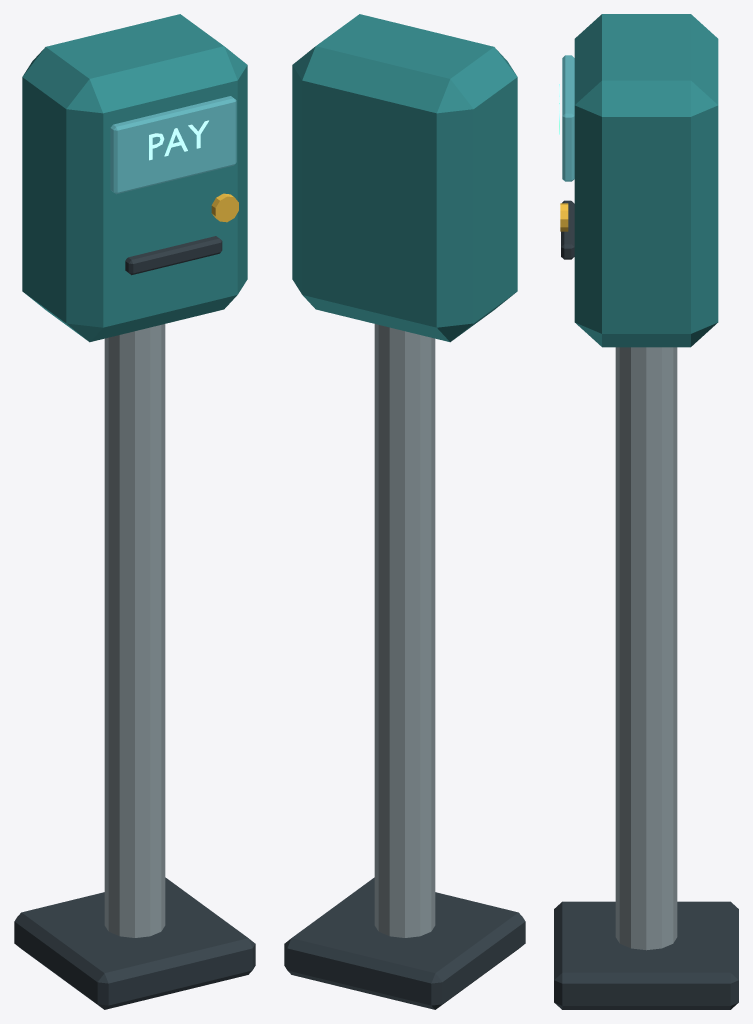
Rendered from Parking_Meter.glb.
The picture shows the model from 3 angles, left to right: view 1: azimuth 30°, elevation 25°; view 2: azimuth 150°, elevation 25°; view 3: azimuth 270°, elevation 25°; orthographic projection.
Visible parts, largest first — view 1: Parking_Meter; view 2: Parking_Meter; view 3: Parking_Meter.
Boxes of the visible parts, left/top/right/bottom form: Parking_Meter: left=14, top=14, right=255, bottom=1009; Parking_Meter: left=284, top=14, right=525, bottom=1009; Parking_Meter: left=554, top=14, right=738, bottom=1009.
Size of the model in its own units: 0.31 by 1.5 by 0.27.
